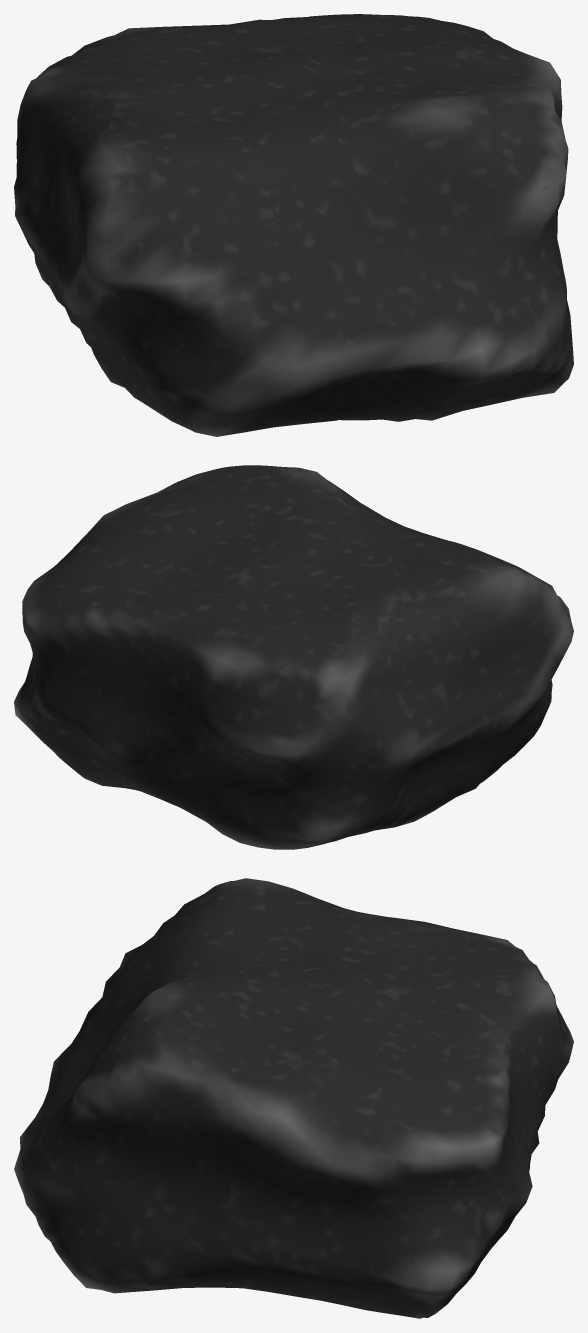
The model's file is lunar_rock7.glb.
3 views of the same model, one above another, from view 1: azimuth 30°, elevation 25°; view 2: azimuth 150°, elevation 25°; view 3: azimuth 270°, elevation 25° (orthographic). The views are drawn at different scales.
Parts seen in each view (by area): view 1: lunar_rock_7; view 2: lunar_rock_7; view 3: lunar_rock_7.
Boxes of the visible parts, bbox=[...] form: lunar_rock_7: bbox=[14, 14, 573, 436]; lunar_rock_7: bbox=[14, 465, 573, 849]; lunar_rock_7: bbox=[14, 878, 573, 1318].
Size of the model in its own units: 0.1436 by 0.0763 by 0.1395.
Materials: 1 (1 with a texture image).
